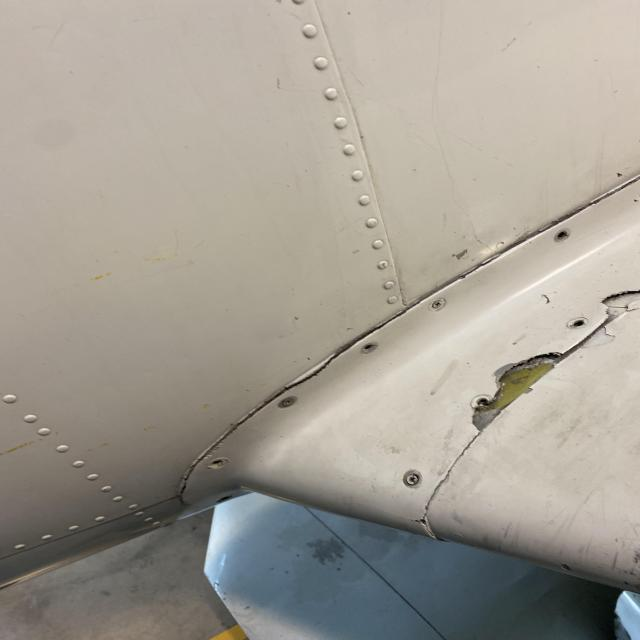Crack: (460, 348, 582, 436), (153, 412, 241, 497), (272, 338, 364, 405), (563, 150, 640, 211), (593, 286, 640, 329), (399, 511, 442, 531)
Missing_Fastener: (206, 458, 226, 470), (362, 342, 379, 355), (555, 230, 570, 242), (569, 318, 587, 328)
